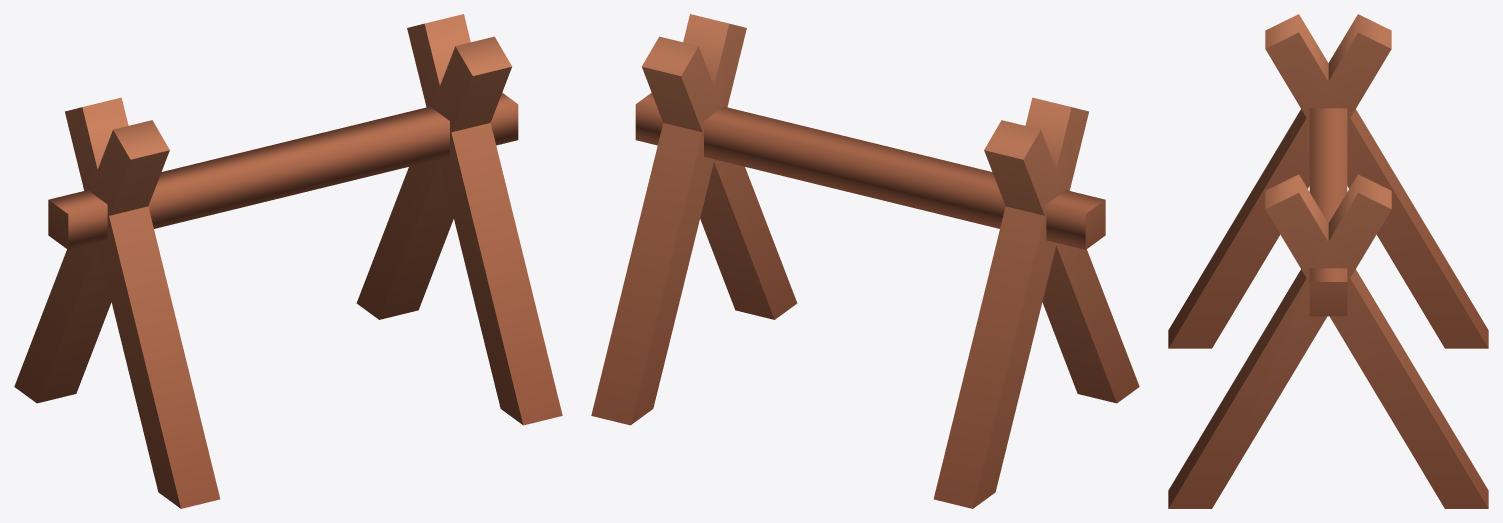
The model's file is campfire-fishing-stand.glb.
3 renders of one model, left to right at view 1: azimuth 30°, elevation 25°; view 2: azimuth 150°, elevation 25°; view 3: azimuth 270°, elevation 25°, orthographic. The views are drawn at different scales.
Parts seen in each view (by area): view 1: campfire-fishing-stand; view 2: campfire-fishing-stand; view 3: campfire-fishing-stand.
Boxes of the visible parts, box(x1,y1,x2,y2) form: campfire-fishing-stand: box(14, 14, 562, 508); campfire-fishing-stand: box(591, 14, 1139, 508); campfire-fishing-stand: box(1168, 14, 1488, 508).
Size of the model in its own units: 0.3945 by 0.276 by 0.2533.
